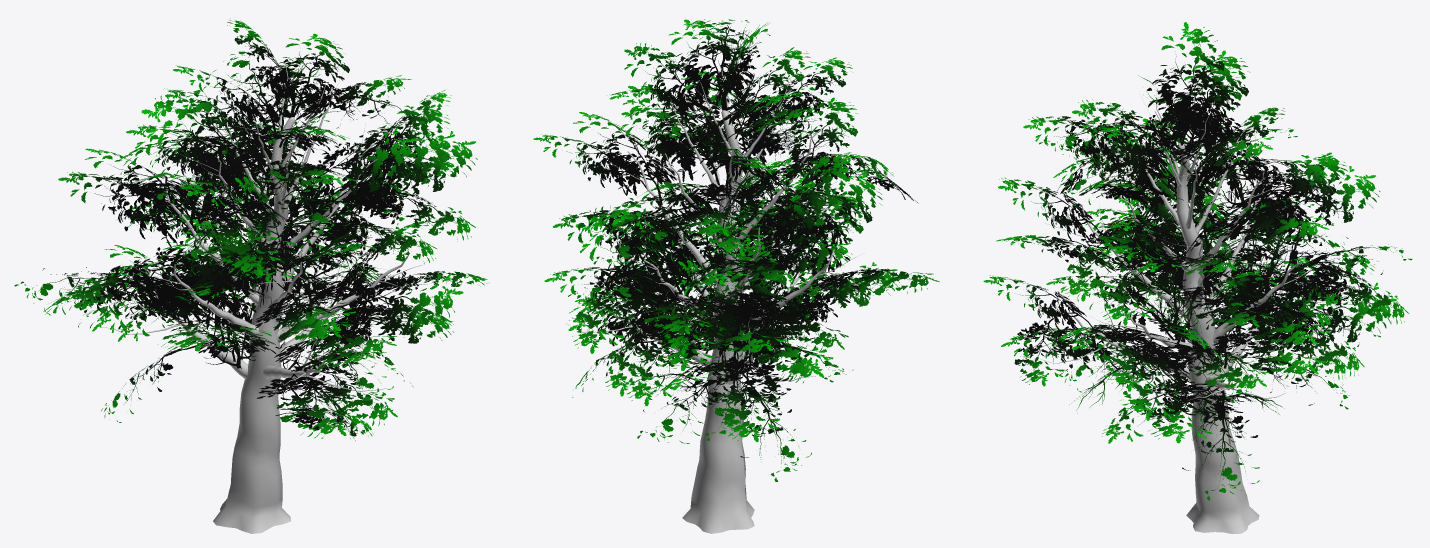
The model's file is Tree_2.fbx.
The picture shows the model from 3 angles, left to right: view 1: azimuth 30°, elevation 25°; view 2: azimuth 150°, elevation 25°; view 3: azimuth 270°, elevation 25°; orthographic projection. The views are drawn at different scales.
Visible parts, largest first — view 1: treelarge; view 2: treelarge; view 3: treelarge.
Part boxes in pixels (x1=…): treelarge: x1=14, y1=20, x2=489, y2=533; treelarge: x1=533, y1=19, x2=939, y2=533; treelarge: x1=983, y1=22, x2=1412, y2=533.
Size of the model in its own units: 418 by 506 by 413.
